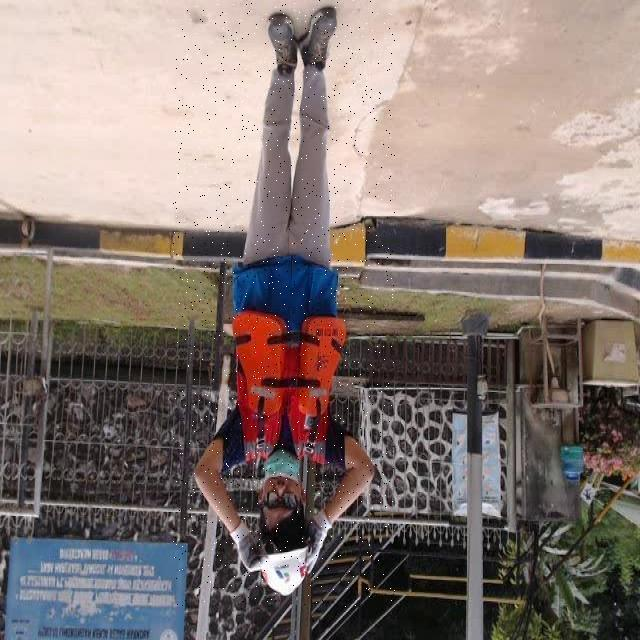Boots: (300, 5, 339, 72), (268, 14, 299, 82)
Gloves: (230, 525, 265, 575), (307, 506, 333, 566)
Helmet: (254, 545, 311, 597)
Vest: (234, 262, 345, 465)
